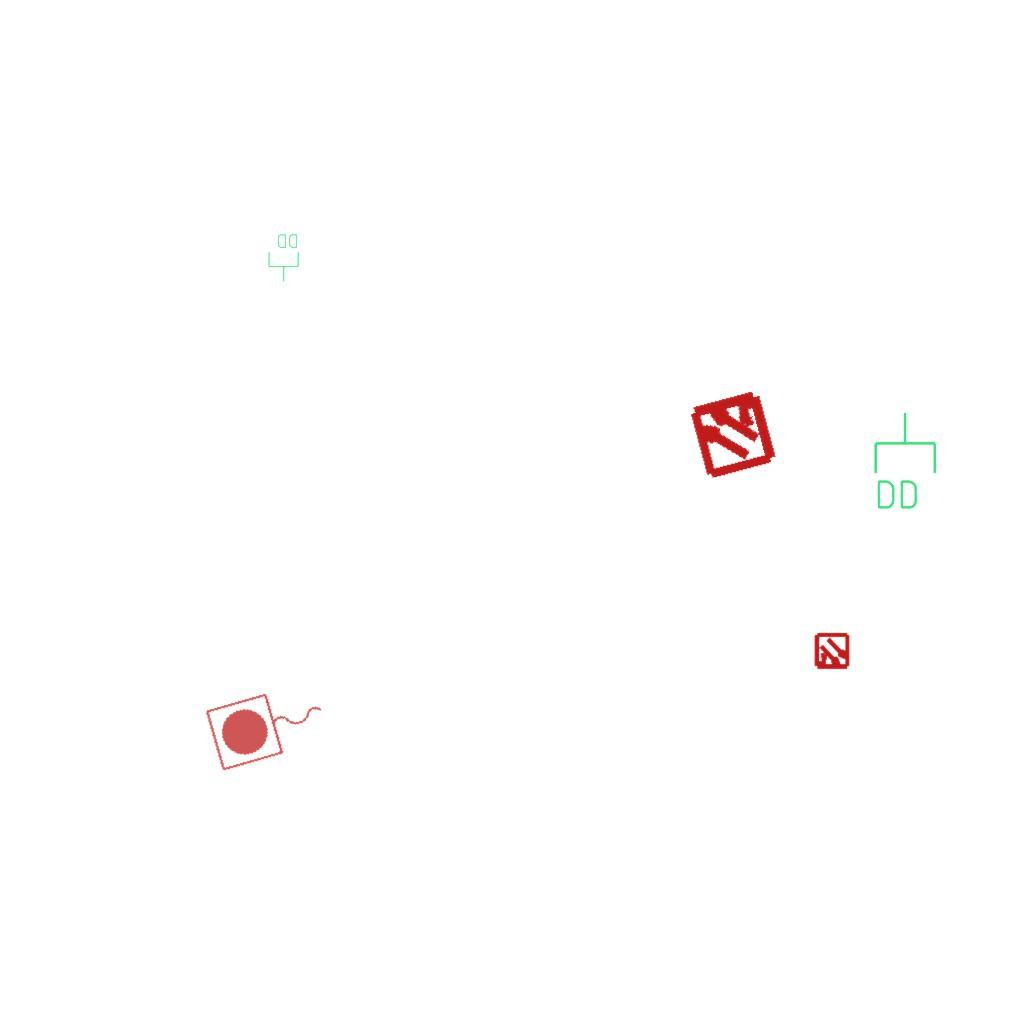Datenanschluss_zweifach: (870, 410, 939, 513), (267, 232, 301, 283)
OT_Multisensormelder_(Kombination_RMO_WMD): (663, 363, 802, 502), (804, 624, 860, 680)
Zugtaster: (200, 674, 338, 778)
